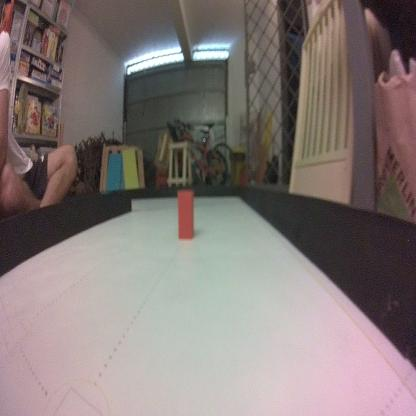red: (176, 186, 196, 241)
